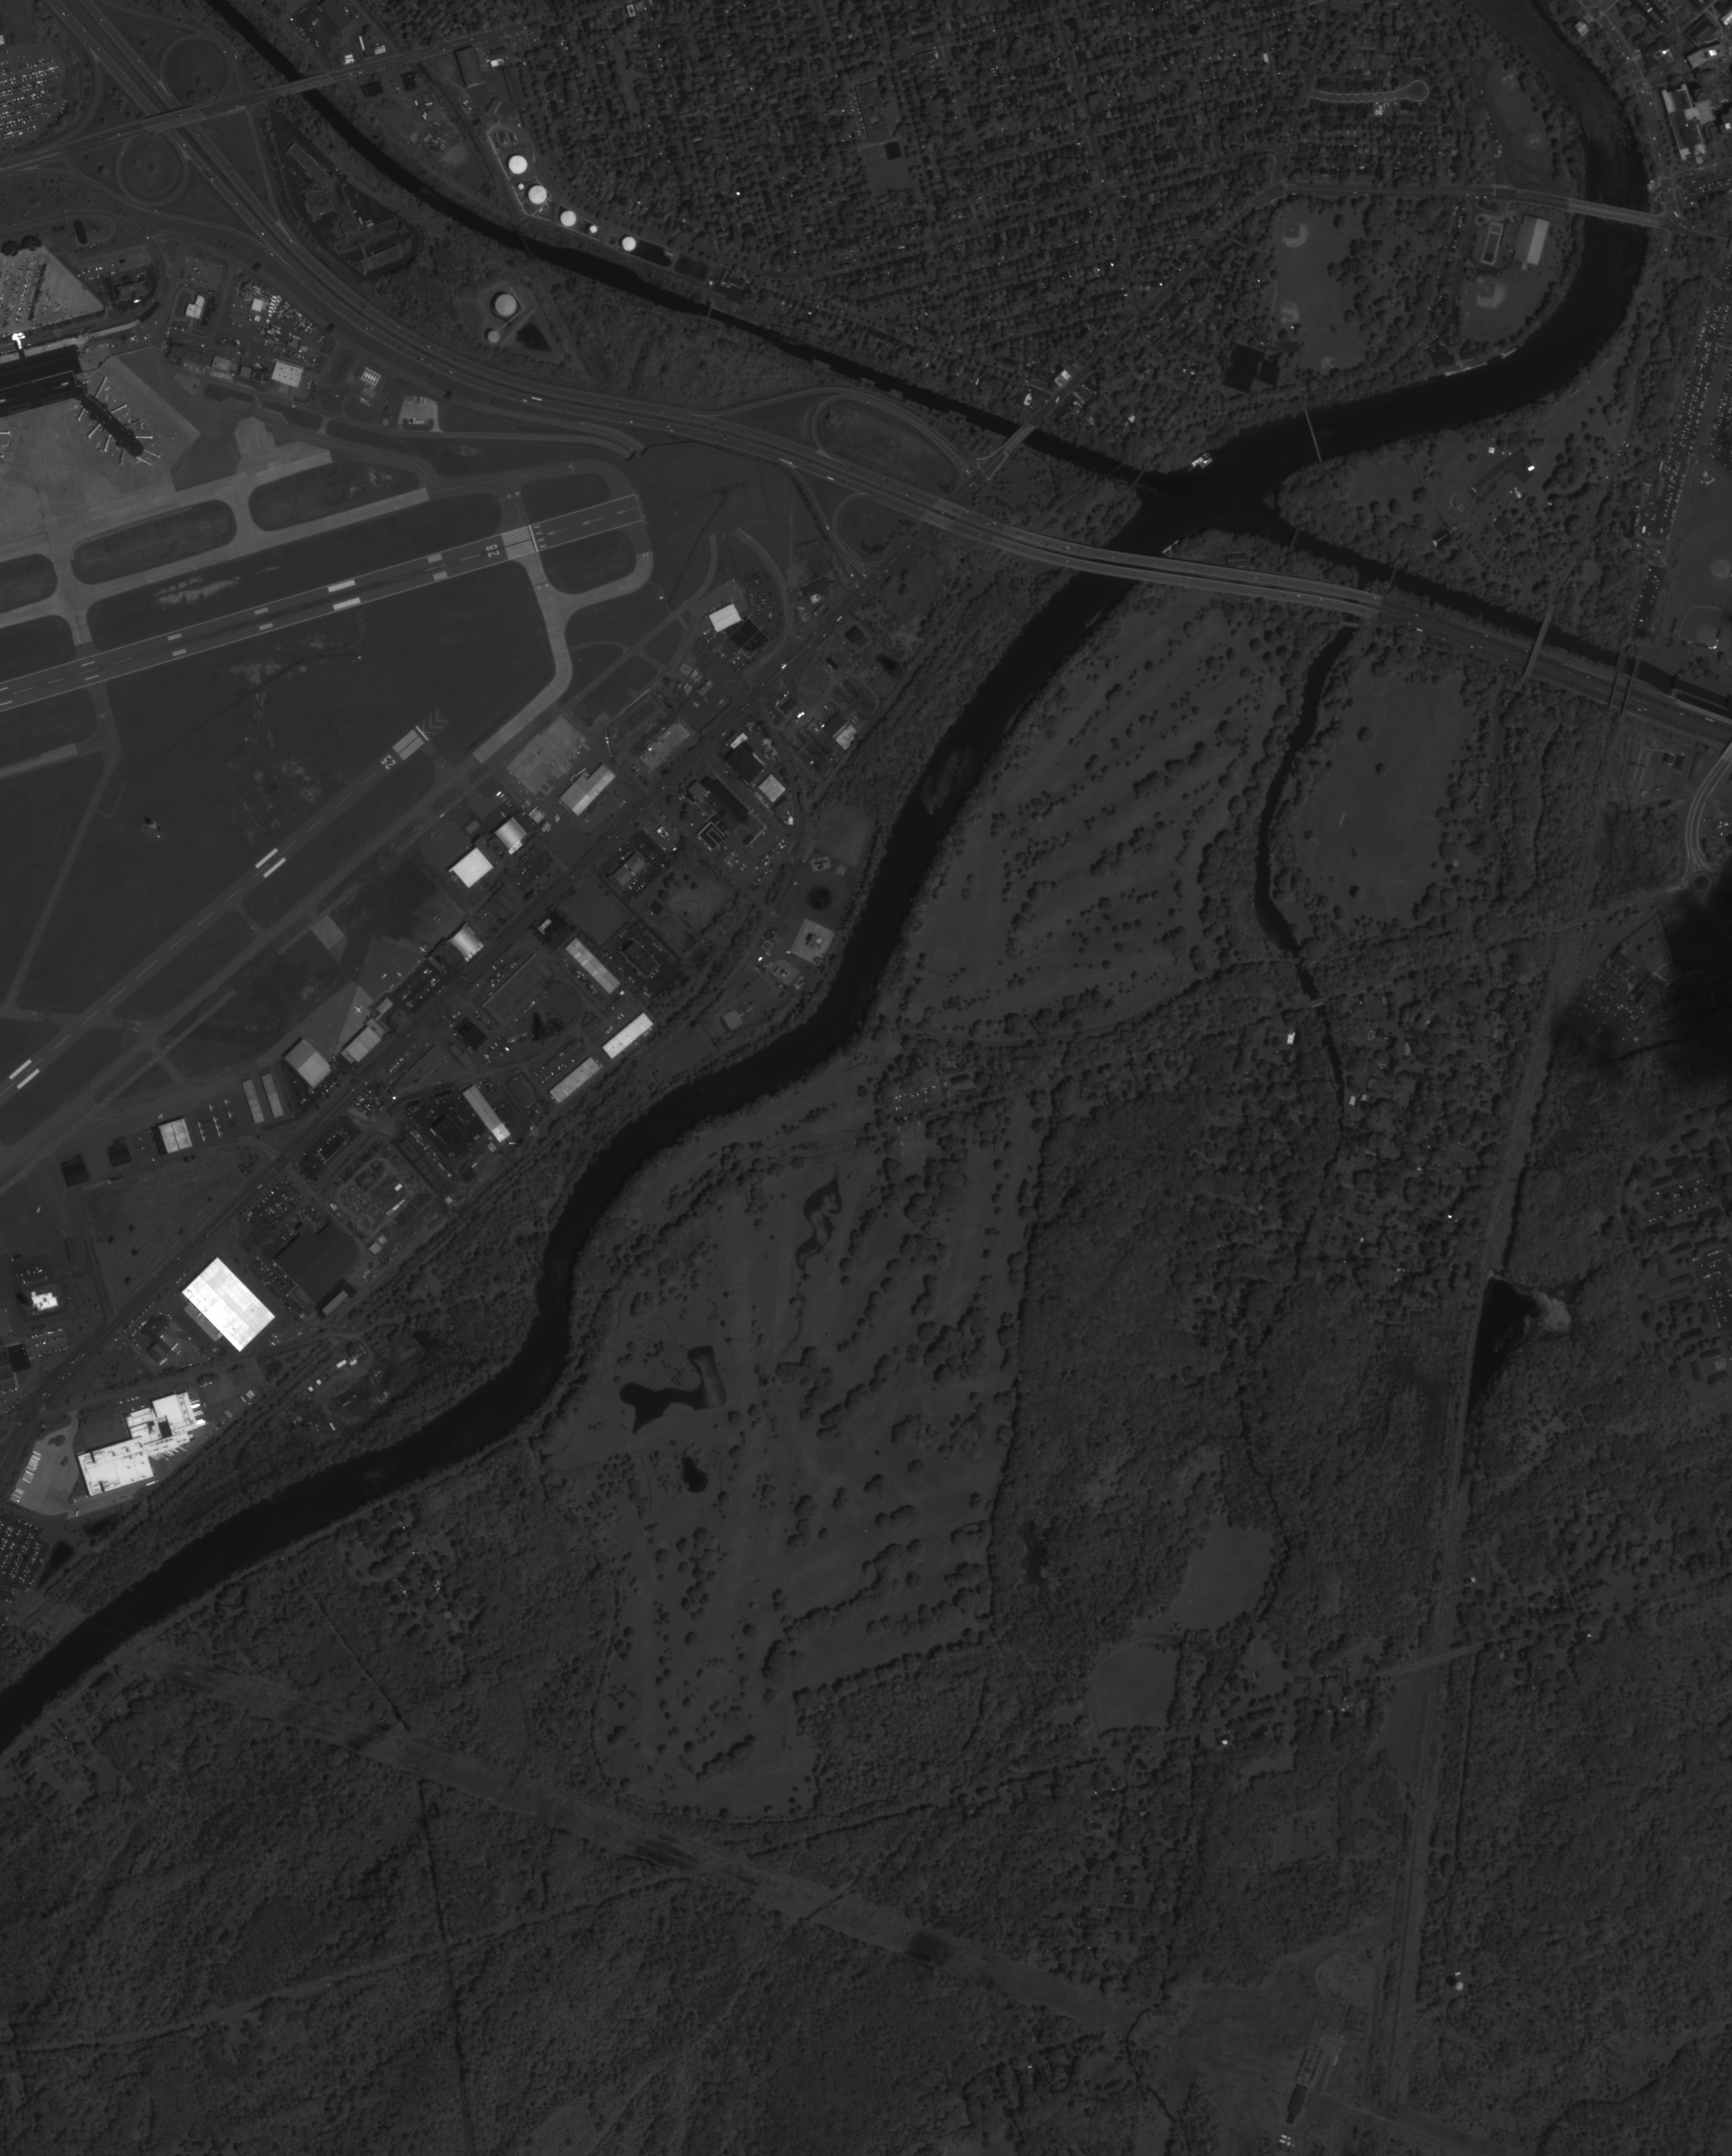plane: (353, 1004, 364, 1014), (498, 809, 507, 820), (157, 1113, 163, 1119), (209, 1105, 214, 1110), (196, 1122, 201, 1126), (201, 1136, 207, 1140), (216, 1124, 219, 1129), (217, 1131, 221, 1136), (224, 1099, 228, 1105), (200, 1129, 203, 1133), (228, 1113, 232, 1117), (214, 1117, 216, 1122)
